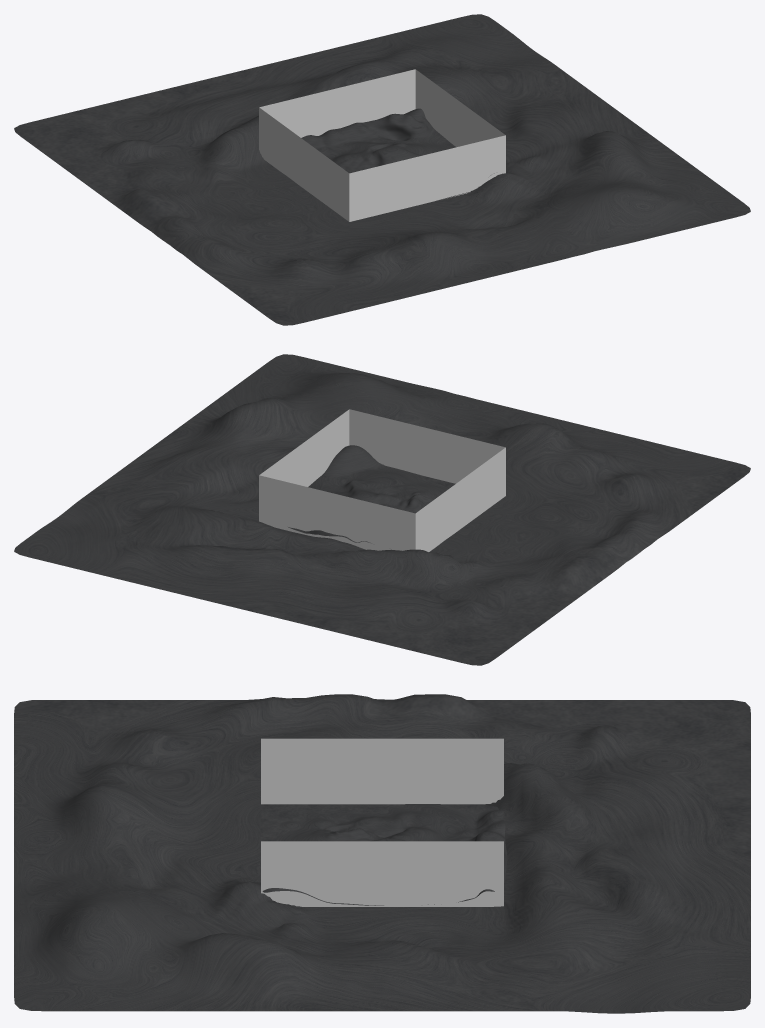
File: TerrenoPrueba.fbx
The picture shows the model from 3 angles, top to bottom: view 1: azimuth 30°, elevation 25°; view 2: azimuth 150°, elevation 25°; view 3: azimuth 270°, elevation 25°; orthographic projection. The views are drawn at different scales.
Visible parts, largest first — view 1: OuterBounds, Wall, Terreno; view 2: OuterBounds, Wall, Terreno; view 3: OuterBounds, Wall, Terreno.
Part boxes in pixels (x1,y1,x2,y2): OuterBounds: (14, 14, 750, 325); Wall: (259, 69, 505, 221); Terreno: (266, 108, 494, 222); OuterBounds: (14, 354, 750, 665); Wall: (259, 409, 505, 551); Terreno: (288, 445, 505, 552); OuterBounds: (14, 694, 750, 1013); Wall: (261, 738, 503, 906); Terreno: (260, 804, 507, 905).
Size of the model in its own units: 120921 by 12866 by 120778.
